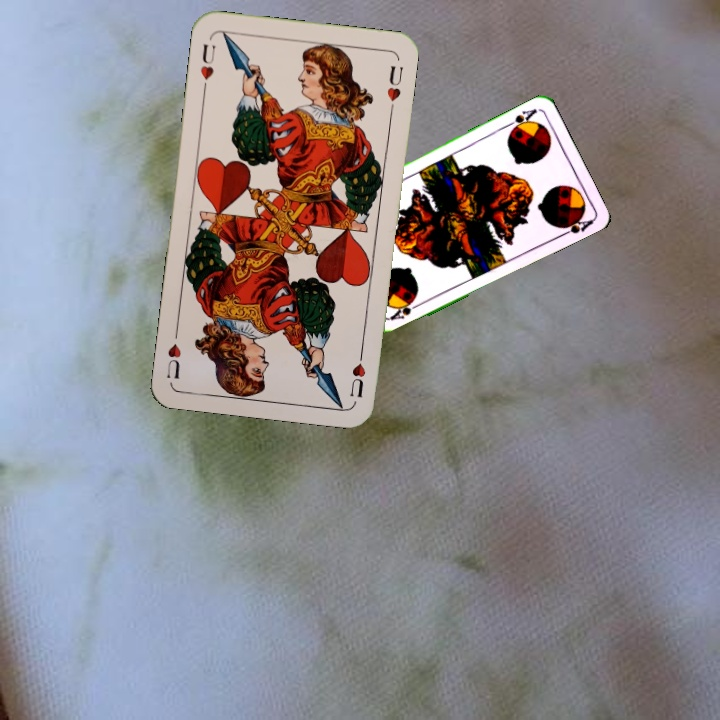HU: (346, 344, 368, 400), (196, 40, 218, 94)
SA: (502, 104, 540, 135), (387, 296, 425, 322)
